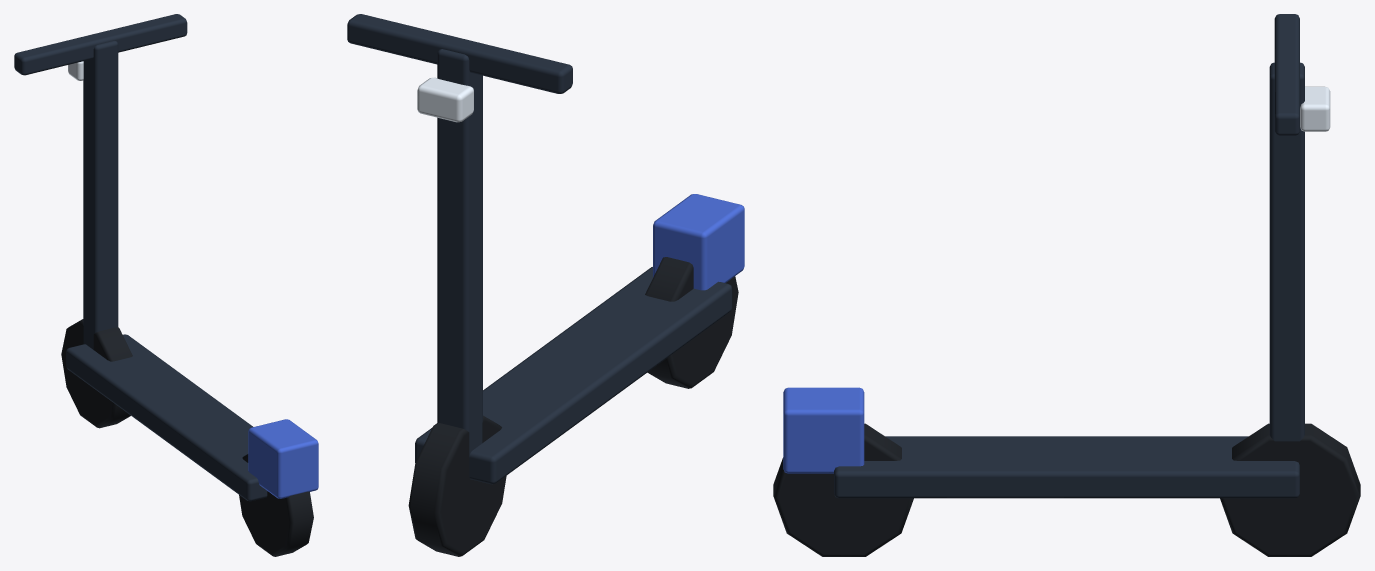
Rendered from veh_e_scooter_01.glb.
3 views of the same model, side by side, from view 1: azimuth 30°, elevation 25°; view 2: azimuth 150°, elevation 25°; view 3: azimuth 270°, elevation 25° (orthographic). The views are drawn at different scales.
Parts seen in each view (by area): view 1: VEH_E_SCOOTER_01_ROOT; view 2: VEH_E_SCOOTER_01_ROOT; view 3: VEH_E_SCOOTER_01_ROOT.
Boxes of the visible parts, x1,y1,x2,y2 form: VEH_E_SCOOTER_01_ROOT: (14, 14, 318, 556); VEH_E_SCOOTER_01_ROOT: (347, 14, 744, 556); VEH_E_SCOOTER_01_ROOT: (773, 14, 1360, 556).
Size of what is drawn, in the model's own units: 0.48 by 1.06 by 1.16.
